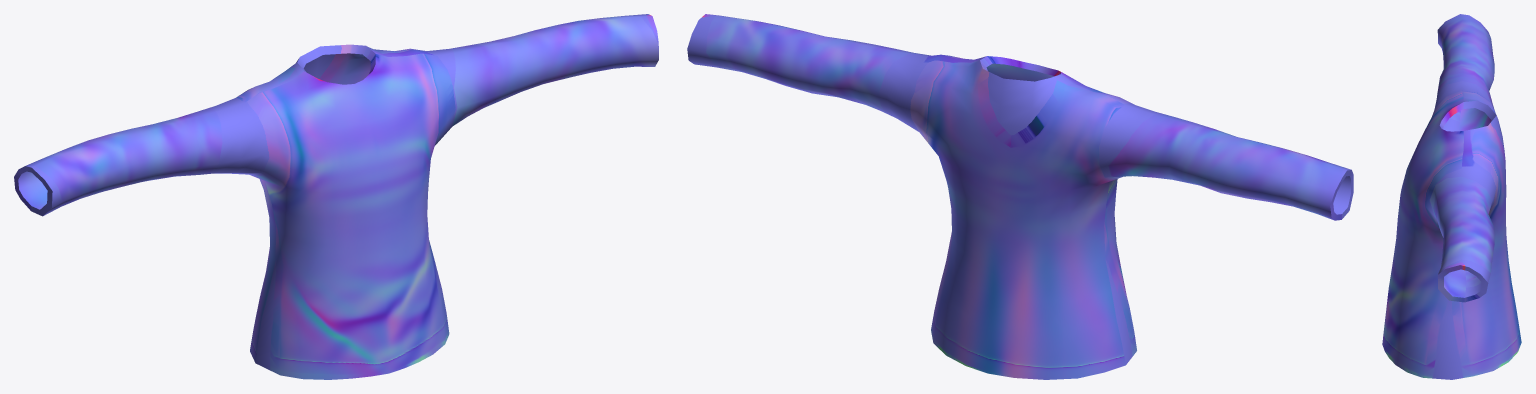
The model's file is Longsleeve_Normal.glb.
3 views of the same model, side by side, from view 1: azimuth 30°, elevation 25°; view 2: azimuth 150°, elevation 25°; view 3: azimuth 270°, elevation 25° (orthographic). The views are drawn at different scales.
Parts seen in each view (by area): view 1: Longsleeve_LP; view 2: Longsleeve_LP; view 3: Longsleeve_LP.
Boxes of the visible parts, x1,y1,x2,y2 form: Longsleeve_LP: (14,14,658,379); Longsleeve_LP: (687,14,1353,379); Longsleeve_LP: (1382,14,1521,379).
Size of the model in its own units: 1.2 by 0.5118 by 0.2812.
1 material, 1 textured.
